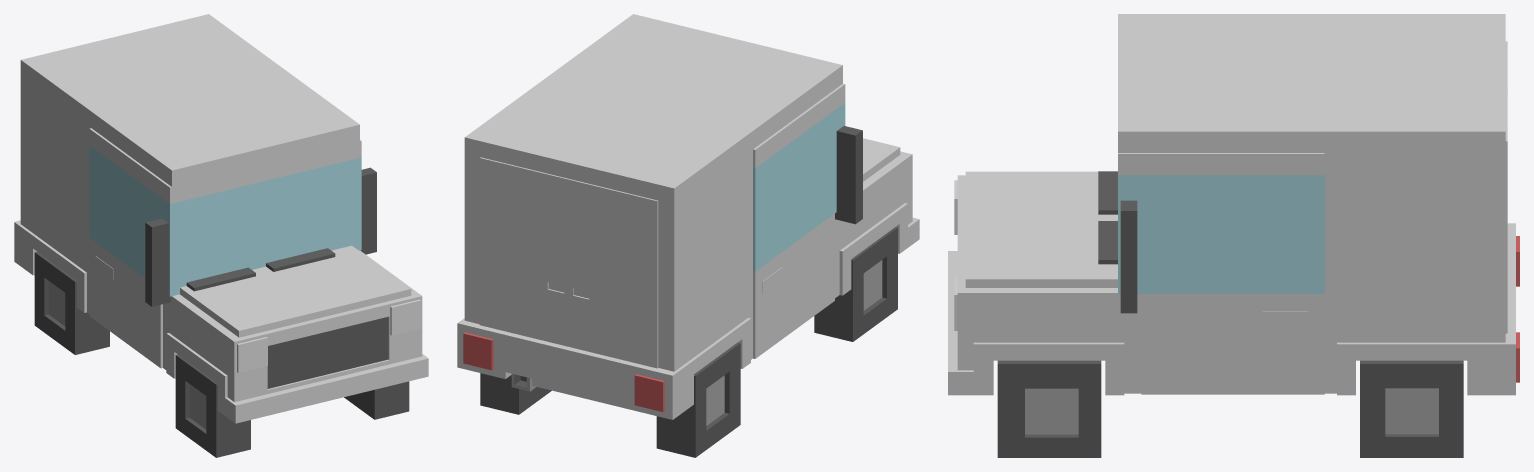
File: kombi.fbx
3 views of the same model, side by side, from view 1: azimuth 30°, elevation 25°; view 2: azimuth 150°, elevation 25°; view 3: azimuth 270°, elevation 25° (orthographic). The views are drawn at different scales.
Visible parts, largest first — view 1: Camera; view 2: Camera; view 3: Camera.
Part boxes in pixels (left/top/right/bottom): Camera: left=14, top=14, right=428, bottom=457; Camera: left=457, top=14, right=919, bottom=457; Camera: left=948, top=14, right=1519, bottom=457.
Size of the model in its own units: 129 by 139 by 221.
